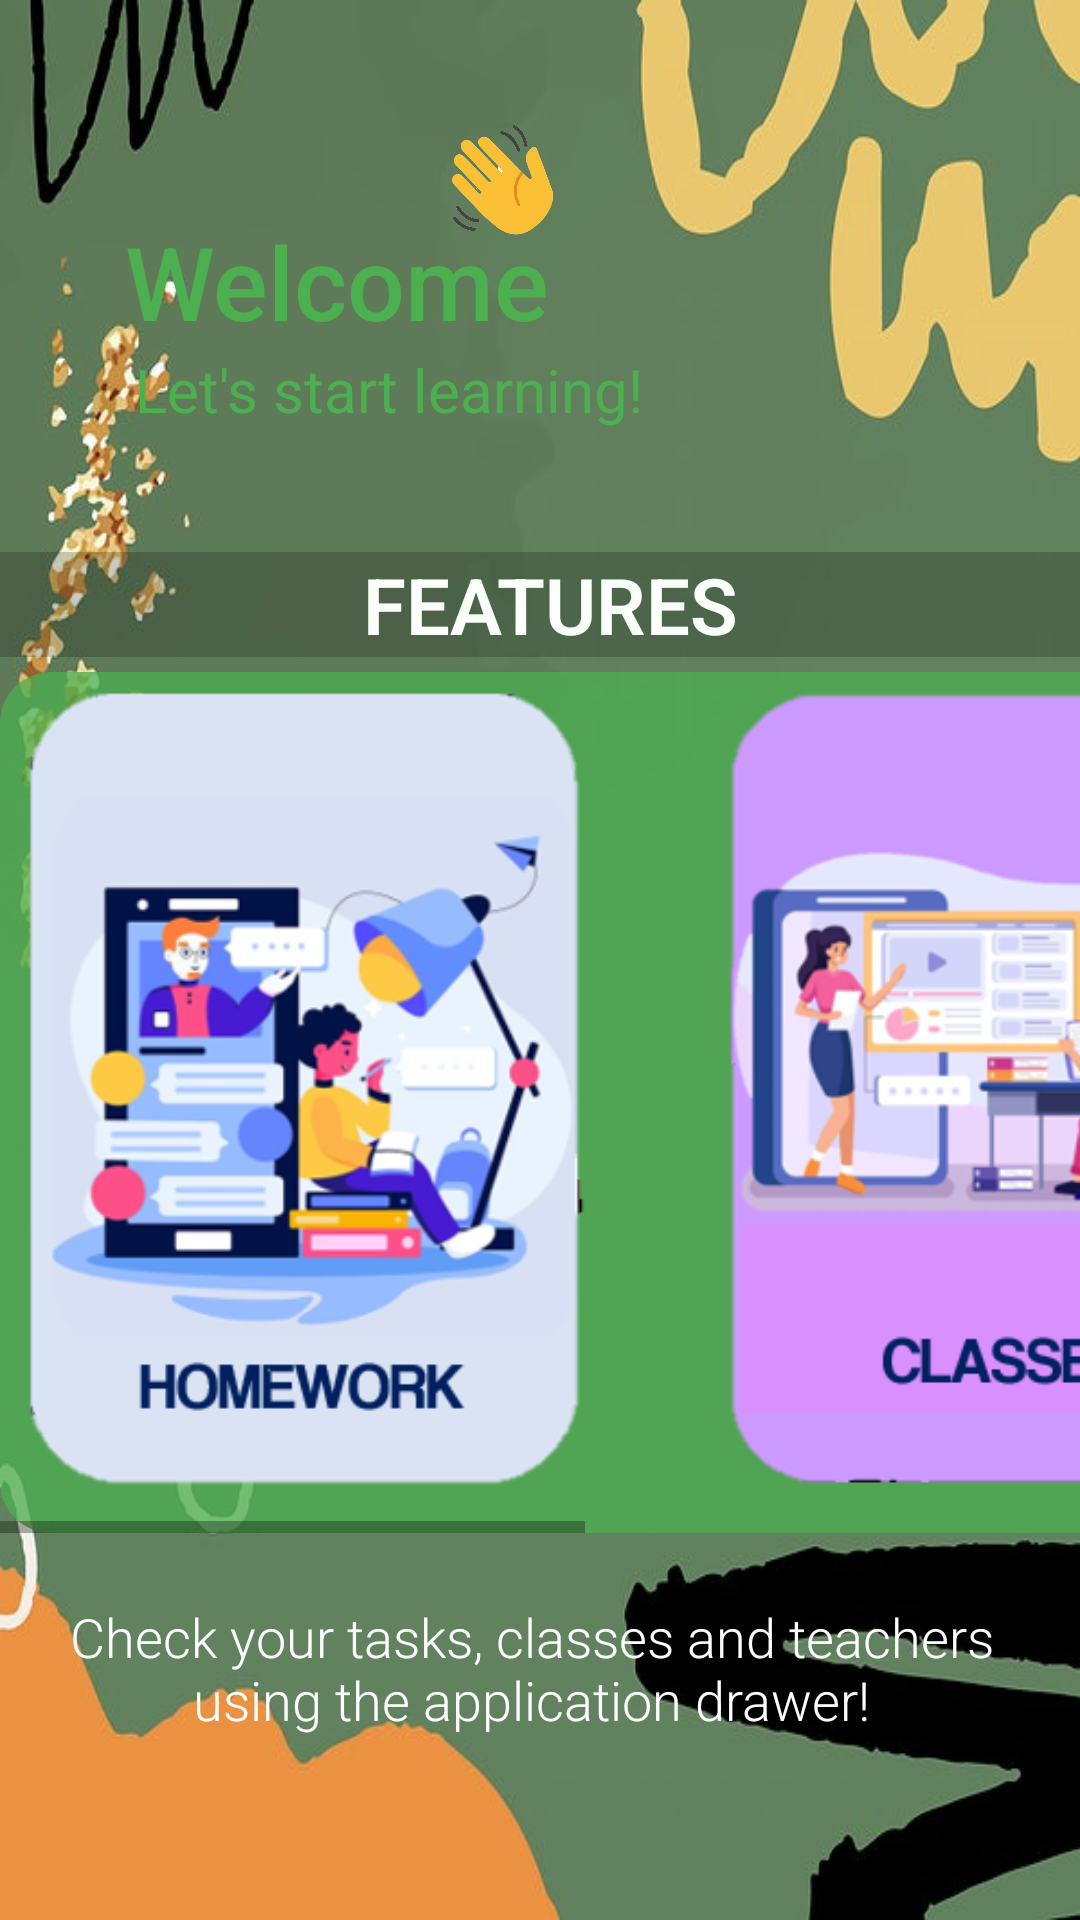

Locate icon controls on the screen. Image size 1080px x 1920px, boxes as (x1, y1, x2, y2).
wave: (452, 125, 553, 235)
